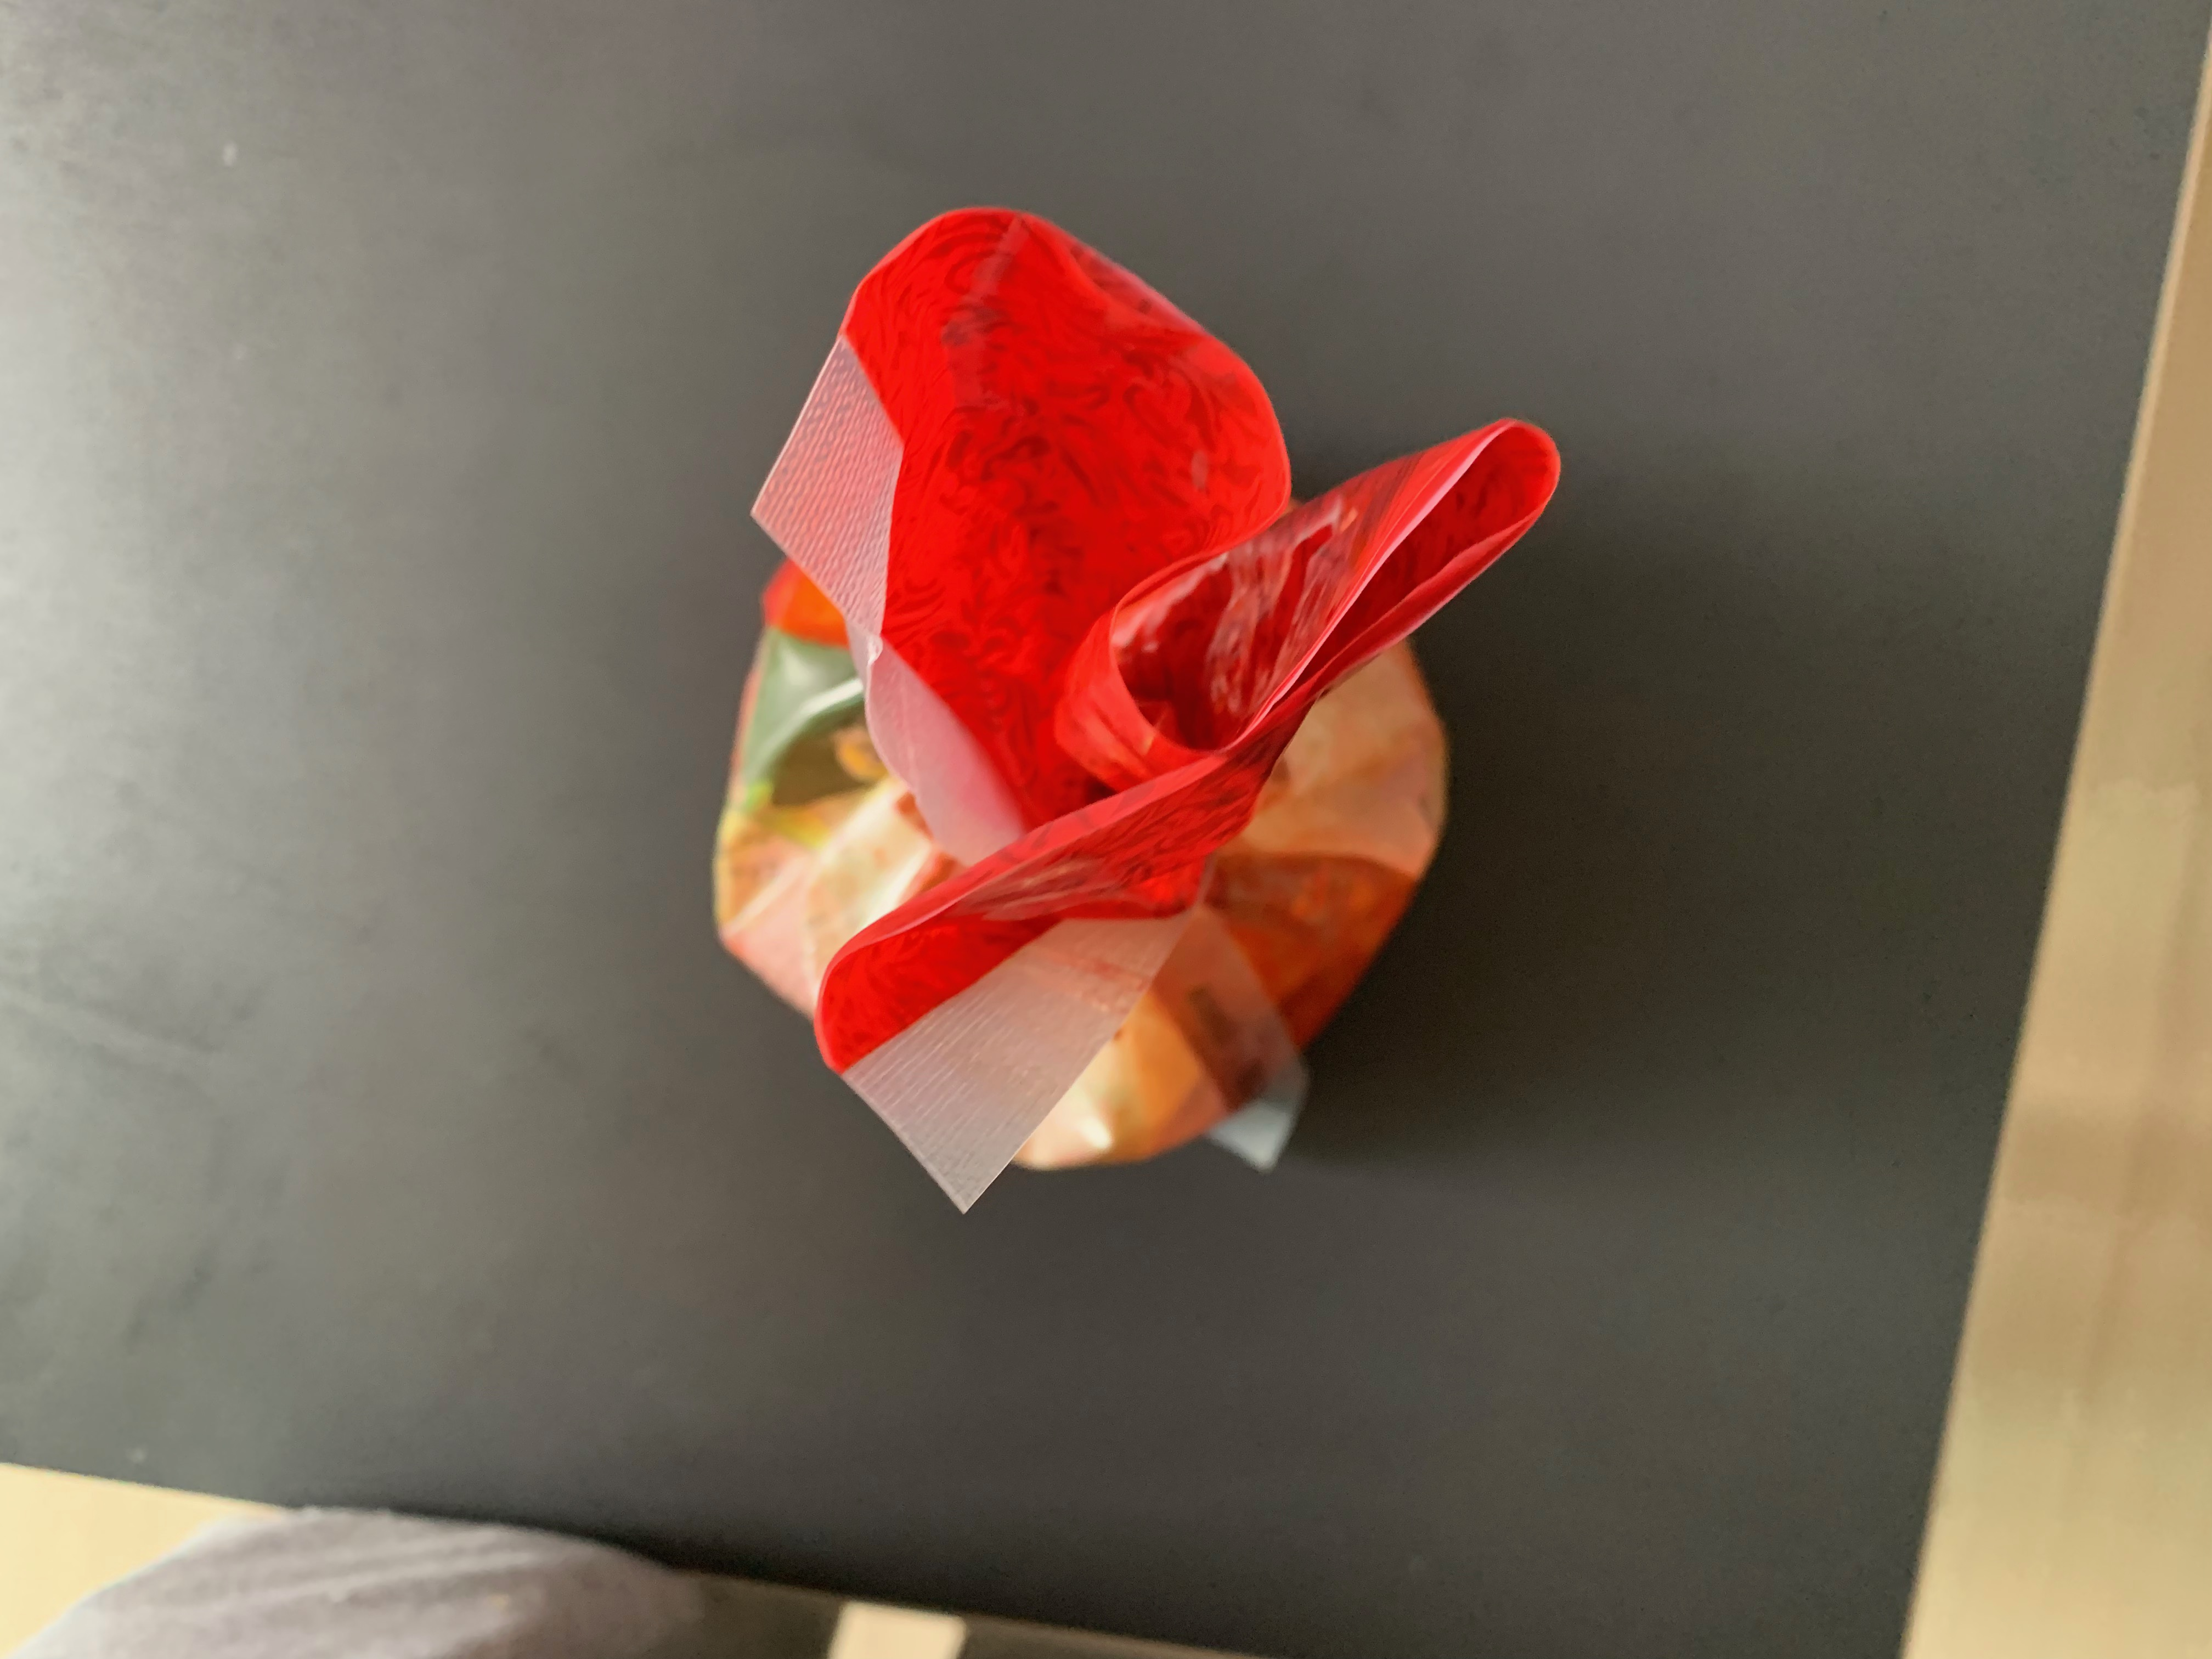kimchi: (712, 206, 1562, 1169)
